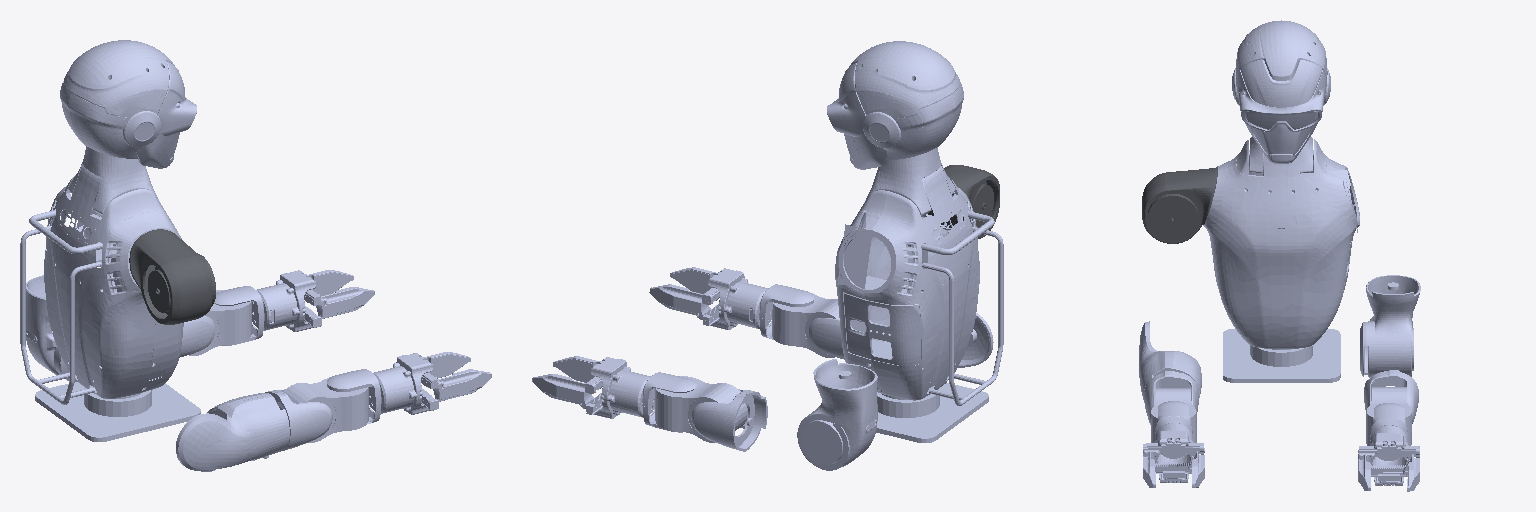
URDF robot description (A7):
<robot name="A7">
  <material name="silvery">
    <color rgba="0.79216 0.81961 0.93333 1"/>
  </material>
  <material name="dark_gray">
    <color rgba="0.416 0.427 0.455 1"/>
  </material>
  <link name="pelvis_link">
    <inertial>
      <origin xyz="0 0 -0.01908191" rpy="0 0 0"/>
      <mass value="0.44340496"/>
      <inertia ixx="0.00073466" ixy="0" ixz="0" iyy="0.00073466" iyz="0" izz="0.00142699"/>
    </inertial>
    <visual>
      <origin xyz="0 0 0" rpy="0 0 0"/>
      <geometry>
        <mesh filename="meshes/pelvis_link_a7.STL"/>
      </geometry>
      <material name="silvery"/>
    </visual>
    <collision>
      <origin xyz="0 0 0" rpy="0 0 0"/>
      <geometry>
        <mesh filename="meshes/pelvis_link_a7.STL"/>
      </geometry>
    </collision>
  </link>
  <link name="waist_yaw_link">
    <inertial>
      <origin xyz="-0.000648 -0.000052  0.144497" rpy="0 0 0"/>
      <mass value="6.024198"/>
      <inertia ixx="0.060949" ixy="-0.000060" ixz="0.001044" iyy="0.050645" iyz="-0.000164" izz="0.024602"/>
    </inertial>
    <visual>
      <origin xyz="0 0 0" rpy="0 0 0"/>
      <geometry>
        <mesh filename="meshes/waist_yaw_link_a7.STL"/>
      </geometry>
      <material name="silvery"/>
    </visual>
    <collision>
      <origin xyz="0 0 0" rpy="0 0 0"/>
      <geometry>
        <mesh filename="meshes/waist_yaw_link_a7.STL"/>
      </geometry>
    </collision>
  </link>
  <joint name="waist_yaw_joint" type="revolute">
    <origin xyz="0 0 0" rpy="0 0 0"/>
    <parent link="pelvis_link"/>
    <child link="waist_yaw_link"/>
    <axis xyz="0 0 1"/>
    <limit lower="-2.618" upper="2.618" effort="60" velocity="18.7"/>
  </joint>
  <link name="left_shoulder_pitch_link">
    <inertial>
      <origin xyz="0.00294386 0.04476868 -0.02286868" rpy="0 0 0"/>
      <mass value="0.83794992"/>
      <inertia ixx="0.00066072" ixy="-0.00000492" ixz="0.00001580" iyy="0.00060170" iyz="0.00005557" izz="0.00057741"/>
    </inertial>
    <visual>
      <origin xyz="0 0 0" rpy="0 0 0"/>
      <geometry>
        <mesh filename="meshes/left_shoulder_pitch_link.STL"/>
      </geometry>
      <material name="dark_gray"/>
    </visual>
    <collision>
      <origin xyz="0 0 0" rpy="0 0 0"/>
      <geometry>
        <mesh filename="meshes/left_shoulder_pitch_link.STL"/>
      </geometry>
    </collision>
  </link>
  <joint name="left_shoulder_pitch_joint" type="revolute">
    <origin xyz="0 0.085688 0.19749" rpy="0.26187 0 0"/>
    <parent link="waist_yaw_link"/>
    <child link="left_shoulder_pitch_link"/>
    <axis xyz="0 1 0"/>
    <limit lower="-3.1416" upper="2.0944" effort="60" velocity="18.7"/>
  </joint>
  <link name="left_shoulder_roll_link">
    <inertial>
      <origin xyz="-0.037828 0.003967 -0.066496" rpy="0 0 0"/>
      <mass value="0.740212"/>
      <inertia ixx="0.000971" ixy="-0.000004" ixz="0.000101" iyy="0.001089" iyz="0.000022" izz="0.000573"/>
    </inertial>
    <visual>
      <origin xyz="0 0 0" rpy="0 0 0"/>
      <geometry>
        <mesh filename="meshes/left_shoulder_roll_link_a7.STL"/>
      </geometry>
      <material name="silvery"/>
    </visual>
    <collision>
      <origin xyz="0 0 0" rpy="0 0 0"/>
      <geometry>
        <mesh filename="meshes/left_shoulder_roll_link_a7.STL"/>
      </geometry>
    </collision>
  </link>
  <joint name="left_shoulder_roll_joint" type="revolute">
    <origin xyz="0.03445 0.047132 -0.025693" rpy="-0.26187 0 0"/>
    <parent link="left_shoulder_pitch_link"/>
    <child link="left_shoulder_roll_link"/>
    <axis xyz="1 0 0"/>
    <limit lower="-0.22689" upper="2.4784" effort="60" velocity="18.7"/>
  </joint>
  <link name="left_shoulder_yaw_link">
    <inertial>
      <origin xyz="0.013143 -0.004355 -0.072948" rpy="0 0 0"/>
      <mass value="0.738441"/>
      <inertia ixx="0.000829" ixy="0.000015" ixz="0.000108" iyy="0.000852" iyz="-0.000035" izz="0.000469"/>
    </inertial>
    <visual>
      <origin xyz="0 0 0" rpy="0 0 0"/>
      <geometry>
        <mesh filename="meshes/left_shoulder_yaw_link_a7.STL"/>
      </geometry>
      <material name="silvery"/>
    </visual>
    <collision>
      <origin xyz="0 0 0" rpy="0 0 0"/>
      <geometry>
        <mesh filename="meshes/left_shoulder_yaw_link_a7.STL"/>
      </geometry>
    </collision>
  </link>
  <joint name="left_shoulder_yaw_joint" type="revolute">
    <origin xyz="-0.03445 0.0043 -0.10835" rpy="0 0 0"/>
    <parent link="left_shoulder_roll_link"/>
    <child link="left_shoulder_yaw_link"/>
    <axis xyz="0 0 1"/>
    <limit lower="-1.9199" upper="1.9199" effort="33" velocity="52.4"/>
  </joint>
  <link name="left_elbow_link">
    <inertial>
      <origin xyz="0.072371  -0.024612 -0.011566" rpy="0 0 0"/>
      <mass value="0.759419"/>
      <inertia ixx="0.000550" ixy="0.000179" ixz="0.000030" iyy="0.000892" iyz="-0.000017" izz="0.000936"/>
    </inertial>
    <visual>
      <origin xyz="0 0 0" rpy="0 0 0"/>
      <geometry>
        <mesh filename="meshes/left_elbow_link_a7.STL"/>
      </geometry>
      <material name="silvery"/>
    </visual>
    <collision>
      <origin xyz="0 0 0" rpy="0 0 0"/>
      <geometry>
        <mesh filename="meshes/left_elbow_link_a7.STL"/>
      </geometry>
    </collision>
  </link>
  <joint name="left_elbow_joint" type="revolute">
    <origin xyz="0.016191 0.026461 -0.082858" rpy="0 0 0"/>
    <parent link="left_shoulder_yaw_link"/>
    <child link="left_elbow_link"/>
    <axis xyz="0 1 0"/>
    <limit lower="-0.97564" upper="2.1852" effort="33" velocity="52.4"/>
  </joint>
  <link name="left_wrist_roll_link">
    <inertial>
      <origin xyz="0.03771439 -0.00122311 -0.00062262" rpy="0 0 0"/>
      <mass value="0.4924082"/>
      <inertia ixx="0.00023179" ixy="3.57E-06" ixz="2.9E-07" iyy="0.00029325" iyz="-2E-08" izz="0.00030986"/>
    </inertial>
    <visual>
      <origin xyz="0 0 0" rpy="0 0 0"/>
      <geometry>
        <mesh filename="meshes/left_wrist_roll_link_a7.STL"/>
      </geometry>
      <material name="silvery"/>
    </visual>
    <collision>
      <origin xyz="0 0 0" rpy="0 0 0"/>
      <geometry>
        <mesh filename="meshes/left_wrist_roll_link_a7.STL"/>
      </geometry>
    </collision>
  </link>
  <joint name="left_wrist_roll_joint" type="revolute">
    <origin xyz="0.11218 -0.03002 -0.011702" rpy="0 0 0"/>
    <parent link="left_elbow_link"/>
    <child link="left_wrist_roll_link"/>
    <axis xyz="1 0 0"/>
    <limit lower="-1.9199" upper="1.9199" effort="33" velocity="52.4"/>
  </joint>
  <link name="left_wrist_pitch_link">
    <inertial>
      <origin xyz="0.04612819 -0 0" rpy="0 0 0"/>
      <mass value="0.413215"/>
      <inertia ixx="0.00017063" ixy="-0" ixz="0" iyy="0.00026511" iyz="-0" izz="0.00027294"/>
    </inertial>
    <visual>
      <origin xyz="0 0 0" rpy="0 0 0"/>
      <geometry>
        <mesh filename="meshes/left_wrist_pitch_link.STL"/>
      </geometry>
      <material name="silvery"/>
    </visual>
    <collision>
      <origin xyz="0 0 0" rpy="0 0 0"/>
      <geometry>
        <mesh filename="meshes/left_wrist_pitch_link.STL"/>
      </geometry>
    </collision>
  </link>
  <joint name="left_wrist_pitch_joint" type="revolute">
    <origin xyz="0.04646 -0.0018006 0.00064554" rpy="0 0 0"/>
    <parent link="left_wrist_roll_link"/>
    <child link="left_wrist_pitch_link"/>
    <axis xyz="0 1 0"/>
    <limit lower="-1.6144" upper="1.6144" effort="10" velocity="37.7"/>
  </joint>
  <link name="left_wrist_yaw_link">
    <inertial>
      <origin xyz="0.09491001 -0.0002172 -0.02384582" rpy="0 0 0"/>
      <mass value="0.63414044"/>
      <inertia ixx="0.00046864" ixy="-6.59E-06" ixz="-6.83E-06" iyy="0.00125049" iyz="-1.98E-06" izz="0.00137808"/>
    </inertial>
    <visual>
      <origin xyz="0 0 0" rpy="0 0 0"/>
      <geometry>
        <mesh filename="meshes/left_wrist_yaw_link.STL"/>
      </geometry>
      <material name="silvery"/>
    </visual>
    <collision>
      <origin xyz="0 0 0" rpy="0 0 0"/>
      <geometry>
        <mesh filename="meshes/left_wrist_yaw_link.STL"/>
      </geometry>
    </collision>
  </link>
  <joint name="left_wrist_yaw_joint" type="revolute">
    <origin xyz="0.051 0.00013893 0.02225" rpy="0 0 0"/>
    <parent link="left_wrist_pitch_link"/>
    <child link="left_wrist_yaw_link"/>
    <axis xyz="0 0 1"/>
    <limit lower="-1.6144" upper="1.6144" effort="10" velocity="37.7"/>
  </joint>
  <link name="right_shoulder_pitch_link">
    <inertial>
      <origin xyz="0.00294386 -0.04476868 -0.02286868" rpy="0 0 0"/>
      <mass value="0.83794992"/>
      <inertia ixx="0.00066072" ixy="0.00000492" ixz="0.00001580" iyy="0.00060170" iyz="-0.00005557" izz="0.00057741"/>
    </inertial>
    <visual>
      <origin xyz="0 0 0" rpy="0 0 0"/>
      <geometry>
        <mesh filename="meshes/right_shoulder_pitch_link.STL"/>
      </geometry>
      <material name="dark_gray"/>
    </visual>
    <collision>
      <origin xyz="0 0 0" rpy="0 0 0"/>
      <geometry>
        <mesh filename="meshes/right_shoulder_pitch_link.STL"/>
      </geometry>
    </collision>
  </link>
  <joint name="right_shoulder_pitch_joint" type="revolute">
    <origin xyz="0 -0.085688 0.19749" rpy="-0.26187 0 0"/>
    <parent link="waist_yaw_link"/>
    <child link="right_shoulder_pitch_link"/>
    <axis xyz="0 1 0"/>
    <limit lower="-3.1416" upper="2.0944" effort="60" velocity="18.7"/>
  </joint>
  <link name="right_shoulder_roll_link">
    <inertial>
      <origin xyz="-0.037828 -0.003967 -0.066496" rpy="0 0 0"/>
      <mass value="0.740212"/>
      <inertia ixx="0.000971" ixy="0.000004" ixz="0.000101" iyy="0.001089" iyz="-0.000022" izz="0.000573"/>
    </inertial>
    <visual>
      <origin xyz="0 0 0" rpy="0 0 0"/>
      <geometry>
        <mesh filename="meshes/right_shoulder_roll_link.STL"/>
      </geometry>
      <material name="silvery"/>
    </visual>
    <collision>
      <origin xyz="0 0 0" rpy="0 0 0"/>
      <geometry>
        <mesh filename="meshes/right_shoulder_roll_link.STL"/>
      </geometry>
    </collision>
  </link>
  <joint name="right_shoulder_roll_joint" type="revolute">
    <origin xyz="0.03445 -0.047132 -0.025693" rpy="0.26187 0 0"/>
    <parent link="right_shoulder_pitch_link"/>
    <child link="right_shoulder_roll_link"/>
    <axis xyz="1 0 0"/>
    <limit lower="-2.47849" upper="0.2268" effort="60" velocity="18.7"/>
  </joint>
  <link name="right_shoulder_yaw_link">
    <inertial>
      <origin xyz="0.013143 0.004355 -0.072948" rpy="0 0 0"/>
      <mass value="0.738441"/>
      <inertia ixx="0.000829" ixy="-0.000015" ixz="0.000108" iyy="0.000852" iyz="0.000035" izz="0.000469"/>
    </inertial>
    <visual>
      <origin xyz="0 0 0" rpy="0 0 0"/>
      <geometry>
        <mesh filename="meshes/right_shoulder_yaw_link_a7.STL"/>
      </geometry>
      <material name="silvery"/>
    </visual>
    <collision>
      <origin xyz="0 0 0" rpy="0 0 0"/>
      <geometry>
        <mesh filename="meshes/right_shoulder_yaw_link_a7.STL"/>
      </geometry>
    </collision>
  </link>
  <joint name="right_shoulder_yaw_joint" type="revolute">
    <origin xyz="-0.03445 -0.0043 -0.10835" rpy="0 0 0"/>
    <parent link="right_shoulder_roll_link"/>
    <child link="right_shoulder_yaw_link"/>
    <axis xyz="0 0 1"/>
    <limit lower="-1.9199" upper="1.9199" effort="33" velocity="52.4"/>
  </joint>
  <link name="right_elbow_link">
    <inertial>
      <origin xyz="0.072371  0.024612 -0.011566" rpy="0 0 0"/>
      <mass value="0.759419"/>
      <inertia ixx="0.000550" ixy="-0.000179" ixz="0.000030" iyy="0.000892" iyz="0.000017" izz="0.000936"/>
    </inertial>
    <visual>
      <origin xyz="0 0 0" rpy="0 0 0"/>
      <geometry>
        <mesh filename="meshes/right_elbow_link.STL"/>
      </geometry>
      <material name="silvery"/>
    </visual>
    <collision>
      <origin xyz="0 0 0" rpy="0 0 0"/>
      <geometry>
        <mesh filename="meshes/right_elbow_link.STL"/>
      </geometry>
    </collision>
  </link>
  <joint name="right_elbow_joint" type="revolute">
    <origin xyz="0.016191 -0.026461 -0.082858" rpy="0 0 0"/>
    <parent link="right_shoulder_yaw_link"/>
    <child link="right_elbow_link"/>
    <axis xyz="0 1 0"/>
    <limit lower="-0.97564" upper="2.1852" effort="33" velocity="52.4"/>
  </joint>
  <link name="right_wrist_roll_link">
    <inertial>
      <origin xyz="0.03771439 0.00122311 -0.00062262" rpy="0 0 0"/>
      <mass value="0.4924082"/>
      <inertia ixx="0.00023179" ixy="-3.57E-06" ixz="2.9E-07" iyy="0.00029325" iyz="2E-08" izz="0.00030986"/>
    </inertial>
    <visual>
      <origin xyz="0 0 0" rpy="0 0 0"/>
      <geometry>
        <mesh filename="meshes/right_wrist_roll_link_a7.STL"/>
      </geometry>
      <material name="silvery"/>
    </visual>
    <collision>
      <origin xyz="0 0 0" rpy="0 0 0"/>
      <geometry>
        <mesh filename="meshes/right_wrist_roll_link_a7.STL"/>
      </geometry>
    </collision>
  </link>
  <joint name="right_wrist_roll_joint" type="revolute">
    <origin xyz="0.11218 0.03002 -0.011702" rpy="0 0 0"/>
    <parent link="right_elbow_link"/>
    <child link="right_wrist_roll_link"/>
    <axis xyz="1 0 0"/>
    <limit lower="-1.9199" upper="1.9199" effort="33" velocity="52.4"/>
  </joint>
  <link name="right_wrist_pitch_link">
    <inertial>
      <origin xyz="0.04612819 0 0" rpy="0 0 0"/>
      <mass value="0.413215"/>
      <inertia ixx="0.00017063" ixy="0" ixz="0" iyy="0.00026511" iyz="0" izz="0.00027294"/>
    </inertial>
    <visual>
      <origin xyz="0 0 0" rpy="0 0 0"/>
      <geometry>
        <mesh filename="meshes/right_wrist_pitch_link.STL"/>
      </geometry>
      <material name="silvery"/>
    </visual>
    <collision>
      <origin xyz="0 0 0" rpy="0 0 0"/>
      <geometry>
        <mesh filename="meshes/right_wrist_pitch_link.STL"/>
      </geometry>
    </collision>
  </link>
  <joint name="right_wrist_pitch_joint" type="revolute">
    <origin xyz="0.04646 0.0018084 -0.00062321" rpy="0 0 0"/>
    <parent link="right_wrist_roll_link"/>
    <child link="right_wrist_pitch_link"/>
    <axis xyz="0 1 0"/>
    <limit lower="-1.6144" upper="1.6144" effort="10" velocity="37.7"/>
  </joint>
  <link name="right_wrist_yaw_link">
    <inertial>
      <origin xyz="0.09491001 0.0002172 0.02384582" rpy="0 0 0"/>
      <mass value="0.63414044"/>
      <inertia ixx="0.00046864" ixy="6.59E-06" ixz="-6.83E-06" iyy="0.00125049" iyz="1.98E-06" izz="0.00137808"/>
    </inertial>
    <visual>
      <origin xyz="0 0 0" rpy="0 0 0"/>
      <geometry>
        <mesh filename="meshes/right_wrist_yaw_link.STL"/>
      </geometry>
      <material name="silvery"/>
    </visual>
    <collision>
      <origin xyz="0 0 0" rpy="0 0 0"/>
      <geometry>
        <mesh filename="meshes/right_wrist_yaw_link.STL"/>
      </geometry>
    </collision>
  </link>
  <joint name="right_wrist_yaw_joint" type="revolute">
    <origin xyz="0.051235 0.00013294 -0.021703" rpy="0 0 0"/>
    <parent link="right_wrist_pitch_link"/>
    <child link="right_wrist_yaw_link"/>
    <axis xyz="0 0 1"/>
    <limit lower="-1.6144" upper="1.6144" effort="10" velocity="37.7"/>
  </joint>
  <link name="head_pitch_link">
    <inertial>
      <origin xyz="-0.00006956 -0.03077972 0.08058589" rpy="0 0 0"/>
      <mass value="0.50391253"/>
      <inertia ixx="0.00095995" ixy="-0.00000045" ixz="0.00000624" iyy="0.00091344" iyz="0.00000588" izz="0.00045356"/>
    </inertial>
    <visual>
      <origin xyz="0 0 0" rpy="0 0 0"/>
      <geometry>
        <mesh filename="meshes/head_pitch_link.STL"/>
      </geometry>
      <material name="silvery"/>
    </visual>
    <collision>
      <origin xyz="0 0 0" rpy="0 0 0"/>
      <geometry>
        <mesh filename="meshes/head_pitch_link.STL"/>
      </geometry>
    </collision>
  </link>
  <joint name="head_pitch_joint" type="revolute">
    <origin xyz="-0.006 0.03155 0.255" rpy="0 0 0"/>
    <parent link="waist_yaw_link"/>
    <child link="head_pitch_link"/>
    <axis xyz="0 1 0"/>
    <limit lower="-0.62832" upper="0.62832" effort="33" velocity="52.4"/>
  </joint>
  <link name="head_yaw_link">
    <inertial>
      <origin xyz="0.02211657  -0.00004725  0.00199411" rpy="0 0 0"/>
      <mass value="0.71432240"/>
      <inertia ixx="0.00168182" ixy="0.0000001" ixz="0.00029553" iyy=" 0.00202452" iyz="0.0000001" izz="0.00181448"/>
    </inertial>
    <visual>
      <origin xyz="0 0 0" rpy="0 0 0"/>
      <geometry>
        <mesh filename="meshes/head_yaw_link.STL"/>
      </geometry>
      <material name="silvery"/>
    </visual>
    <collision>
      <origin xyz="0 0 0" rpy="0 0 0"/>
      <geometry>
        <mesh filename="meshes/head_yaw_link.STL"/>
      </geometry>
    </collision>
  </link>
  <joint name="head_yaw_joint" type="revolute">
    <origin xyz="0.0010126 -0.03155 0.1165" rpy="0 0 0"/>
    <parent link="head_pitch_link"/>
    <child link="head_yaw_link"/>
    <axis xyz="0 0 1"/>
    <limit lower="-2.0071" upper="2.0071" effort="0.86" velocity="11"/>
  </joint>
</robot>

--- What the picture shows (computed from the rendered views, not written in the file) ---
3 views of the same robot in one strip: view 1: azimuth 30°, elevation 25°; view 2: azimuth 150°, elevation 25°; view 3: azimuth 270°, elevation 25° (orthographic).
Robot: A7 — 18 links, 17 joints (17 revolute); root link pelvis_link; default pose: every joint at zero.
Links seen in each view (by area): view 1: waist_yaw_link, head_yaw_link, right_elbow_link, right_shoulder_pitch_link, right_wrist_yaw_link, left_wrist_yaw_link, pelvis_link, head_pitch_link, left_shoulder_yaw_link, right_wrist_pitch_link, right_wrist_roll_link, left_wrist_pitch_link (+1 smaller); view 2: waist_yaw_link, head_yaw_link, left_shoulder_yaw_link, right_wrist_yaw_link, left_wrist_yaw_link, pelvis_link, left_wrist_roll_link, head_pitch_link, left_wrist_pitch_link, right_shoulder_pitch_link, right_wrist_pitch_link, right_wrist_roll_link (+1 smaller); view 3: waist_yaw_link, head_yaw_link, left_shoulder_yaw_link, pelvis_link, right_shoulder_pitch_link, left_wrist_yaw_link, right_wrist_yaw_link, right_elbow_link, left_wrist_roll_link, right_wrist_roll_link, left_wrist_pitch_link, right_wrist_pitch_link (+1 smaller).
Link boxes in pixels (x1=…): waist_yaw_link: x1=20, y1=165, x2=183, y2=404; head_yaw_link: x1=60, y1=40, x2=196, y2=168; right_elbow_link: x1=176, y1=393, x2=289, y2=471; right_shoulder_pitch_link: x1=129, y1=229, x2=215, y2=324; right_wrist_yaw_link: x1=327, y1=352, x2=491, y2=423; left_wrist_yaw_link: x1=214, y1=270, x2=374, y2=345; pelvis_link: x1=35, y1=382, x2=200, y2=441; head_pitch_link: x1=68, y1=146, x2=157, y2=214; left_shoulder_yaw_link: x1=26, y1=275, x2=76, y2=381; right_wrist_pitch_link: x1=278, y1=377, x2=368, y2=442; right_wrist_roll_link: x1=265, y1=389, x2=335, y2=451; left_wrist_pitch_link: x1=189, y1=289, x2=251, y2=355; waist_yaw_link: x1=835, y1=166, x2=1003, y2=405; head_yaw_link: x1=827, y1=41, x2=963, y2=169; left_shoulder_yaw_link: x1=797, y1=359, x2=877, y2=470; right_wrist_yaw_link: x1=649, y1=267, x2=813, y2=339; left_wrist_yaw_link: x1=532, y1=356, x2=696, y2=432; pelvis_link: x1=876, y1=383, x2=988, y2=442; left_wrist_roll_link: x1=688, y1=389, x2=767, y2=451; head_pitch_link: x1=866, y1=147, x2=955, y2=215; left_wrist_pitch_link: x1=655, y1=376, x2=746, y2=442; right_shoulder_pitch_link: x1=928, y1=165, x2=999, y2=238; right_wrist_pitch_link: x1=772, y1=293, x2=839, y2=357; right_wrist_roll_link: x1=805, y1=313, x2=844, y2=359; waist_yaw_link: x1=1203, y1=139, x2=1359, y2=349; head_yaw_link: x1=1232, y1=20, x2=1330, y2=163; left_shoulder_yaw_link: x1=1360, y1=275, x2=1420, y2=377; pelvis_link: x1=1223, y1=329, x2=1340, y2=382; right_shoulder_pitch_link: x1=1142, y1=168, x2=1216, y2=243; left_wrist_yaw_link: x1=1358, y1=403, x2=1419, y2=491; right_wrist_yaw_link: x1=1143, y1=401, x2=1204, y2=487; right_elbow_link: x1=1139, y1=321, x2=1201, y2=399; left_wrist_roll_link: x1=1364, y1=370, x2=1418, y2=423; right_wrist_roll_link: x1=1144, y1=371, x2=1198, y2=424; left_wrist_pitch_link: x1=1366, y1=387, x2=1411, y2=445; right_wrist_pitch_link: x1=1151, y1=388, x2=1196, y2=442.
Bounding box of the posed robot: 0.5087 × 0.3585 × 0.4959 m (x, y, z).
Meshes: 18 distinct files referenced, 13 mesh visuals loaded (13 binary STL); not drawn: 5 (reference not matched to a file when rendering).
